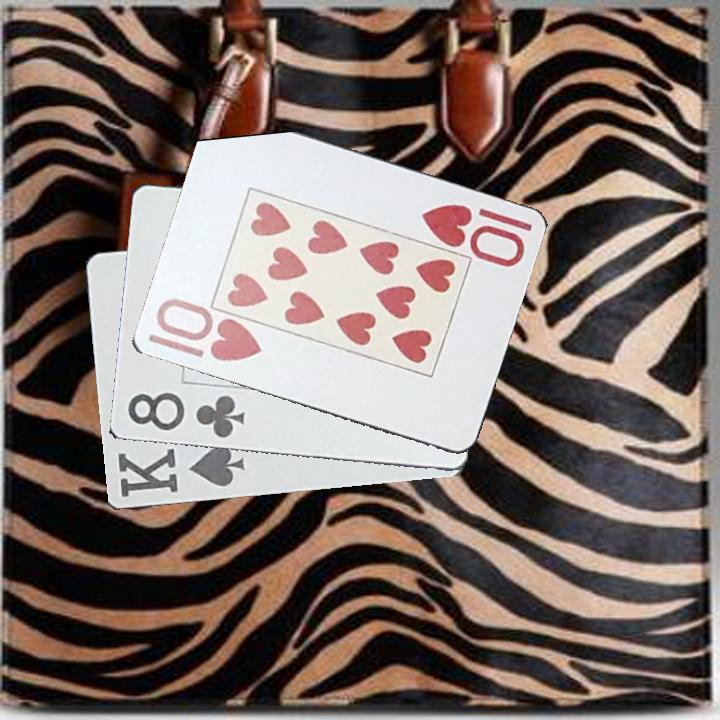8c: (123, 389, 248, 441)
Ks: (114, 442, 248, 501)
Th: (417, 200, 535, 269), (151, 296, 265, 365)
